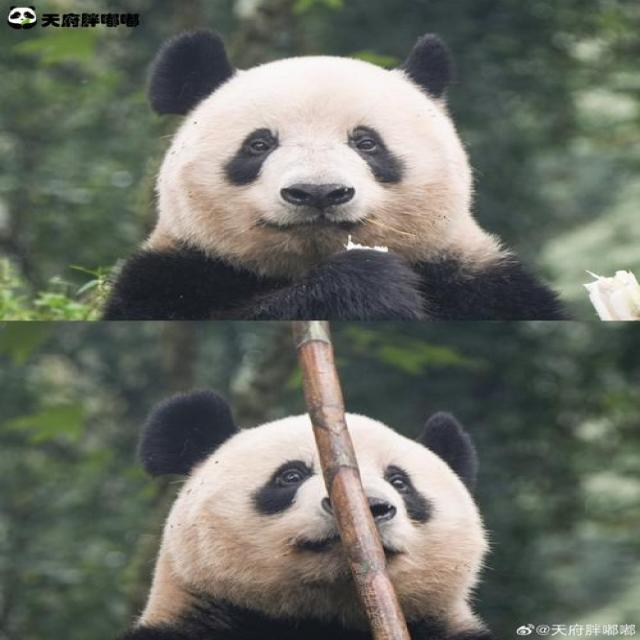panda: (98, 16, 588, 320), (105, 361, 602, 640)
